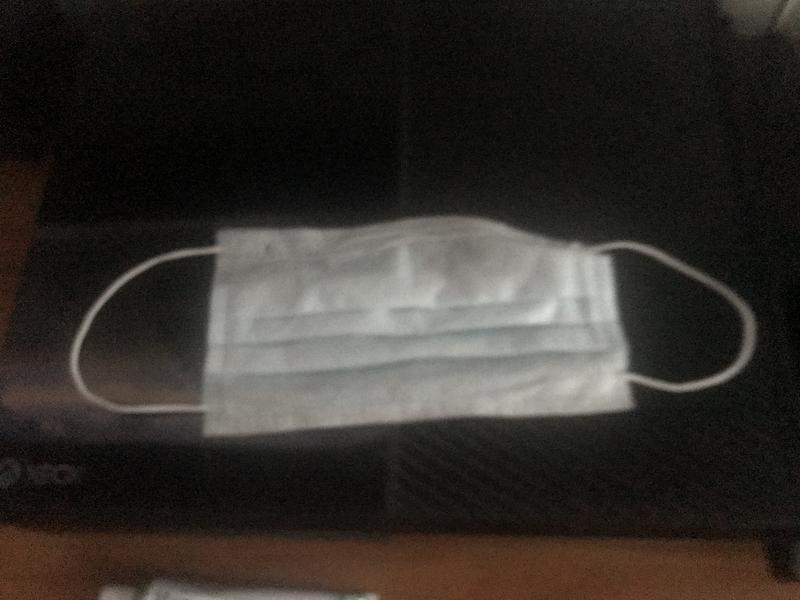medical_mask: (67, 214, 754, 436)
